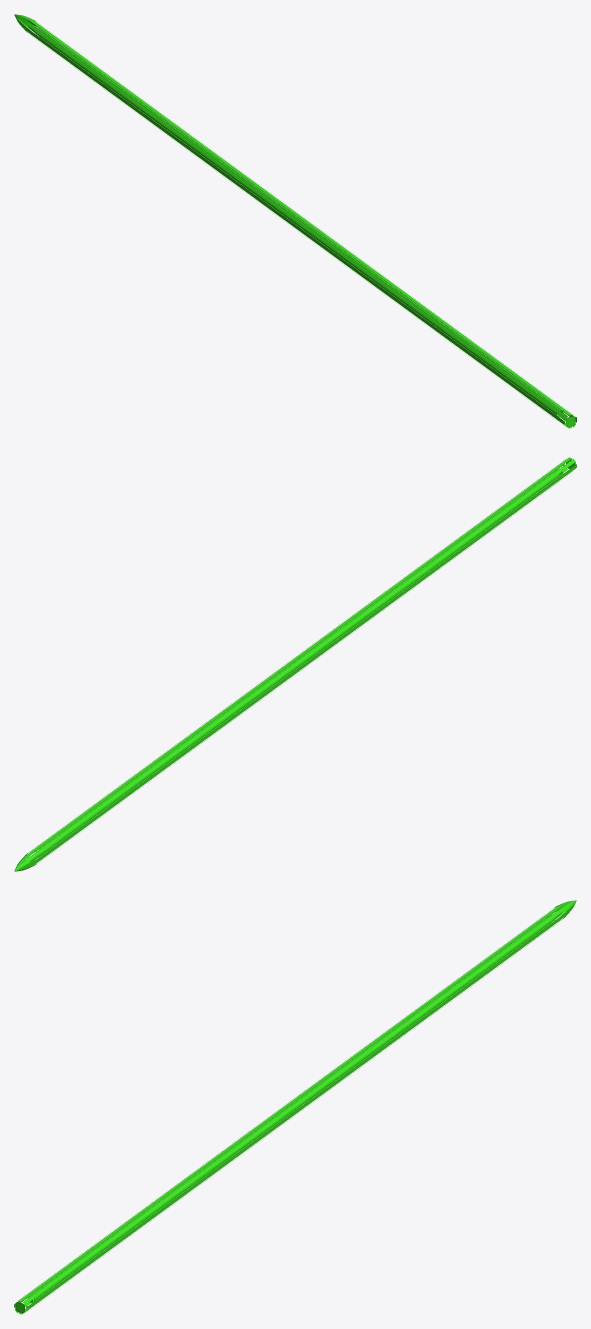
Rendered from particleBeam.fbx.
The picture shows the model from 3 angles, top to bottom: view 1: azimuth 30°, elevation 25°; view 2: azimuth 150°, elevation 25°; view 3: azimuth 330°, elevation 25°; orthographic projection.
Parts seen in each view (by area): view 1: cylinder, cylinder_1; view 2: cylinder, cylinder_1; view 3: cylinder, cylinder_1.
Boxes of the visible parts, bbox=[...] form: cylinder: bbox=[14, 14, 576, 428]; cylinder_1: bbox=[28, 26, 563, 417]; cylinder: bbox=[14, 457, 576, 871]; cylinder_1: bbox=[30, 468, 563, 861]; cylinder: bbox=[14, 900, 576, 1314]; cylinder_1: bbox=[28, 912, 562, 1303].
Size of the model in its own units: 6.25 by 6.25 by 491.
Materials: 1 (1 with a texture image).
